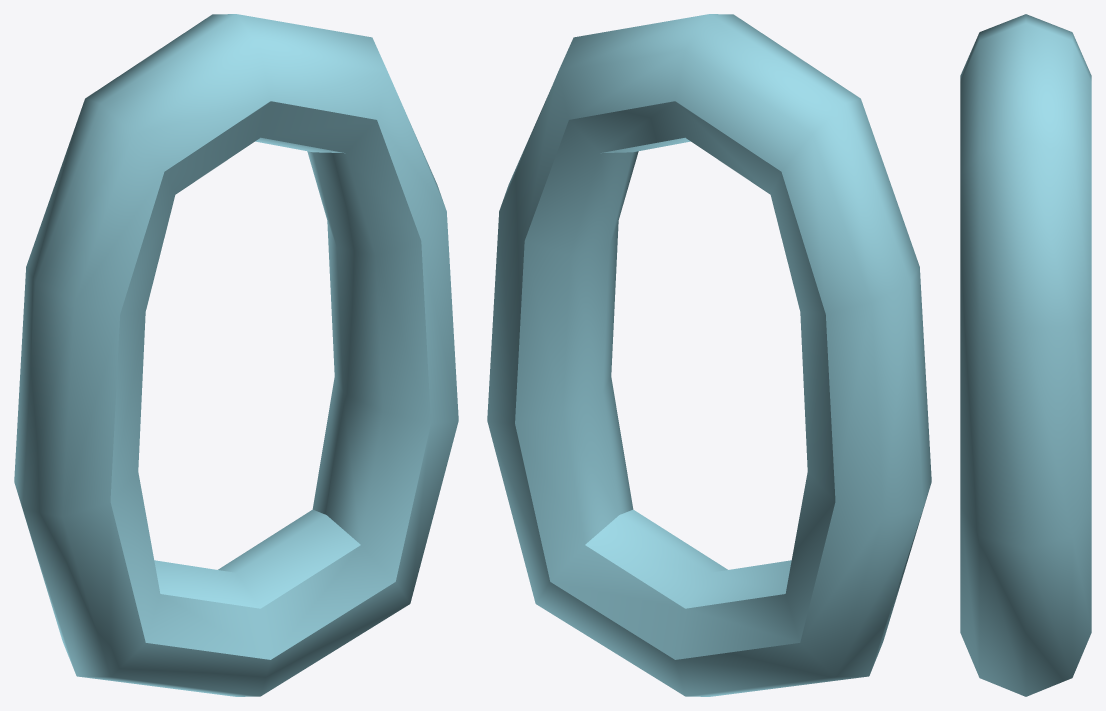
File: SingleChain.obj
The picture shows the model from 3 angles, left to right: view 1: azimuth 30°, elevation 25°; view 2: azimuth 150°, elevation 25°; view 3: azimuth 270°, elevation 25°; orthographic projection. The views are drawn at different scales.
Visible parts, largest first — view 1: Torus003; view 2: Torus003; view 3: Torus003.
Part boxes in pixels (x1,y1,x2,y2): Torus003: (14,14,458,696); Torus003: (487,14,931,696); Torus003: (960,14,1091,696).
Bounding box in the file's own units: 1.63 × 2.48 × 0.4516.
